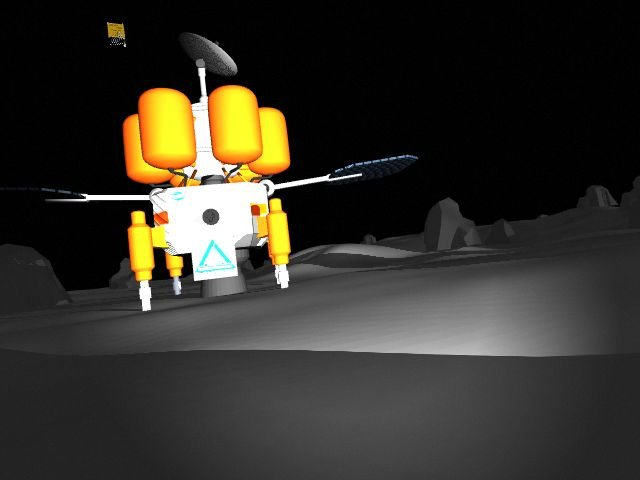basemarker: (194, 239, 235, 275)
